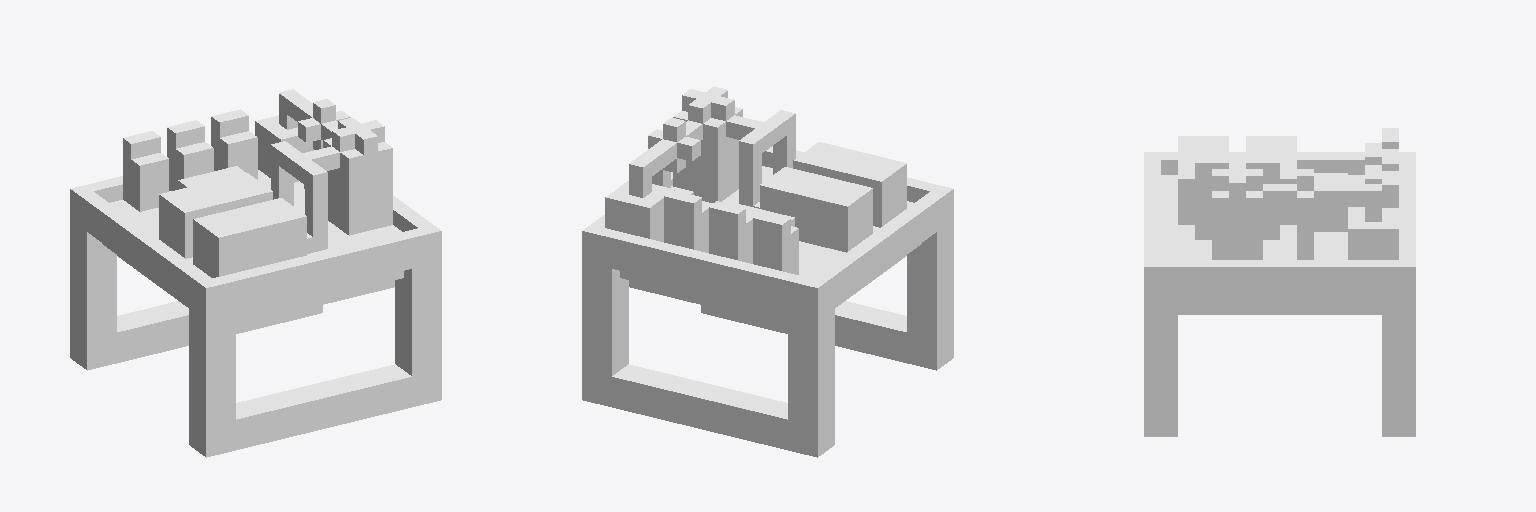
File: himical_plant.obj
3 renders of one model, left to right at view 1: azimuth 30°, elevation 25°; view 2: azimuth 150°, elevation 25°; view 3: azimuth 270°, elevation 25°, orthographic.
Parts seen in each view (by area): view 1: object 1; view 2: object 1; view 3: object 1.
Boxes of the visible parts, <box> form: object 1: <box>70,89,441,457</box>; object 1: <box>582,86,953,457</box>; object 1: <box>1144,128,1415,436</box>.
Bounding box in the file's own units: 1.6 × 1.6 × 1.6.